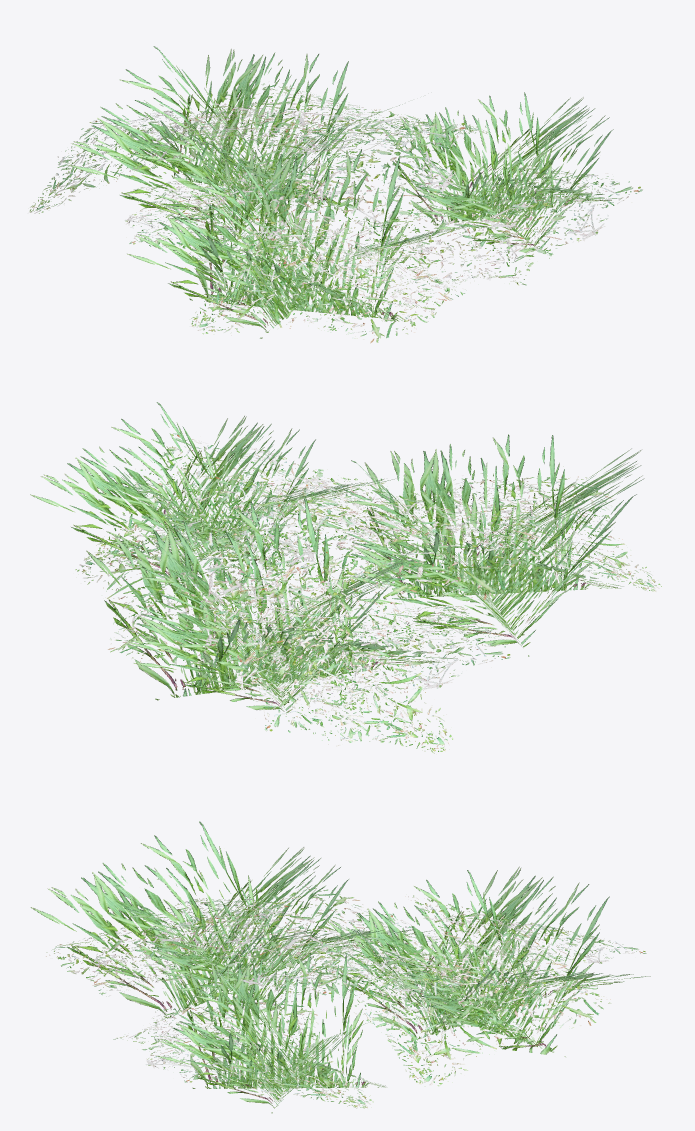
3 renders of one model, top to bottom at view 1: azimuth 30°, elevation 25°; view 2: azimuth 150°, elevation 25°; view 3: azimuth 270°, elevation 25°, orthographic. The views are drawn at different scales.
Parts seen in each view (by area): view 1: Plane_002; view 2: Plane_002; view 3: Plane_002.
Part boxes in pixels (x1,y1,x2,y2): Plane_002: [29, 46, 642, 343]; Plane_002: [30, 402, 661, 753]; Plane_002: [30, 821, 650, 1113].
Bounding box in the file's own units: 2.67 × 3.01 × 0.6609.
